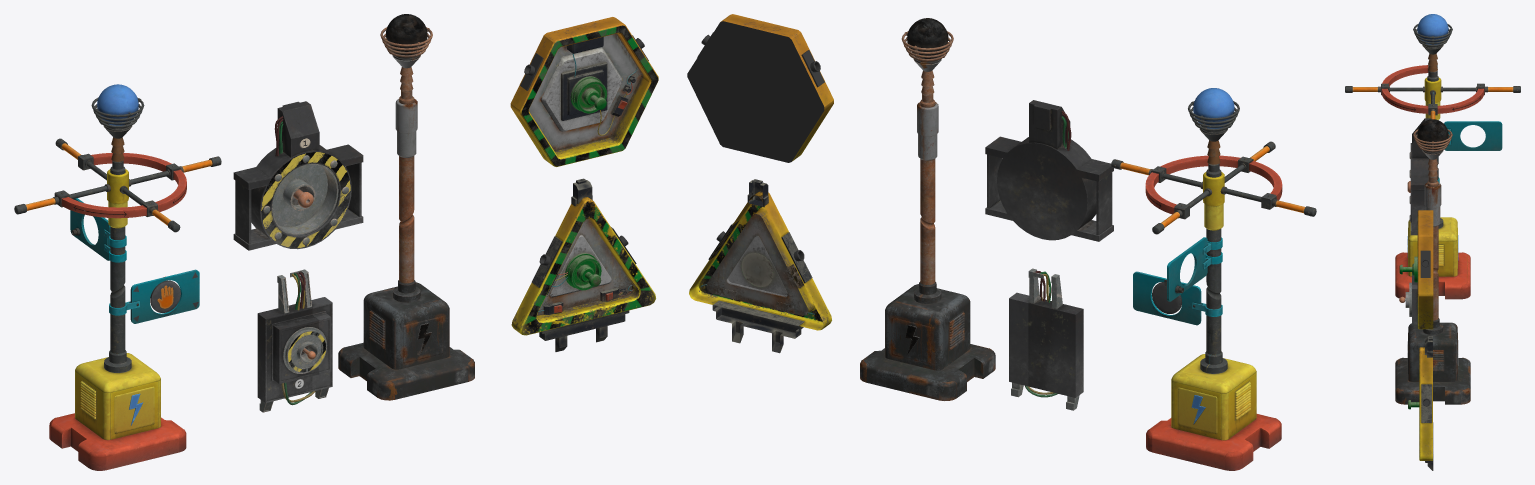
File: puzzle_objects.glb
The picture shows the model from 3 angles, left to right: view 1: azimuth 30°, elevation 25°; view 2: azimuth 150°, elevation 25°; view 3: azimuth 270°, elevation 25°; orthographic projection. The views are drawn at different scales.
Parts seen in each view (by area): view 1: PuzzlePole_Basic, PuzzlePole_Base, ElectricalPanel_B, PowerReceiver, ElectricalPanel_A, PowerSource, PuzzlePole_Wheel, PuzzlePole_LowerFlap, PuzzlePole_UpperFlap; view 2: PuzzlePole_Basic, PuzzlePole_Base, ElectricalPanel_B, ElectricalPanel_A, PowerReceiver, PowerSource, PuzzlePole_Wheel, PuzzlePole_LowerFlap, PuzzlePole_UpperFlap; view 3: PuzzlePole_Basic, PuzzlePole_Base, PuzzlePole_Wheel, ElectricalPanel_B, ElectricalPanel_A, PowerReceiver, PuzzlePole_UpperFlap, PowerSource.
Boxes of the visible parts, box(x1,y1,x2,y2) form: PuzzlePole_Basic: box(338, 14, 474, 400); PuzzlePole_Base: box(49, 84, 186, 470); ElectricalPanel_B: box(510, 17, 658, 166); PowerReceiver: box(233, 101, 363, 250); ElectricalPanel_A: box(511, 178, 655, 351); PowerSource: box(257, 269, 332, 412); PuzzlePole_Wheel: box(14, 138, 221, 232); PuzzlePole_LowerFlap: box(109, 269, 199, 323); PuzzlePole_UpperFlap: box(70, 198, 126, 262); PuzzlePole_Basic: box(860, 18, 995, 400); PuzzlePole_Base: box(1146, 88, 1281, 470); ElectricalPanel_B: box(687, 14, 833, 162); ElectricalPanel_A: box(689, 179, 831, 353); PowerReceiver: box(985, 100, 1113, 241); PowerSource: box(1009, 268, 1083, 410); PuzzlePole_Wheel: box(1111, 141, 1316, 234); PuzzlePole_LowerFlap: box(1133, 271, 1222, 325); PuzzlePole_UpperFlap: box(1167, 237, 1222, 301); PuzzlePole_Basic: box(1395, 119, 1470, 404); PuzzlePole_Base: box(1395, 14, 1470, 299); PuzzlePole_Wheel: box(1345, 65, 1520, 119); ElectricalPanel_B: box(1399, 210, 1433, 329); ElectricalPanel_A: box(1408, 336, 1433, 470); PowerReceiver: box(1407, 118, 1431, 235); PuzzlePole_UpperFlap: box(1444, 121, 1502, 150); PowerSource: box(1399, 272, 1417, 322).
Bounding box in the file's own units: 5.48 × 3.08 × 1.77.
8 materials, 7 textured.
